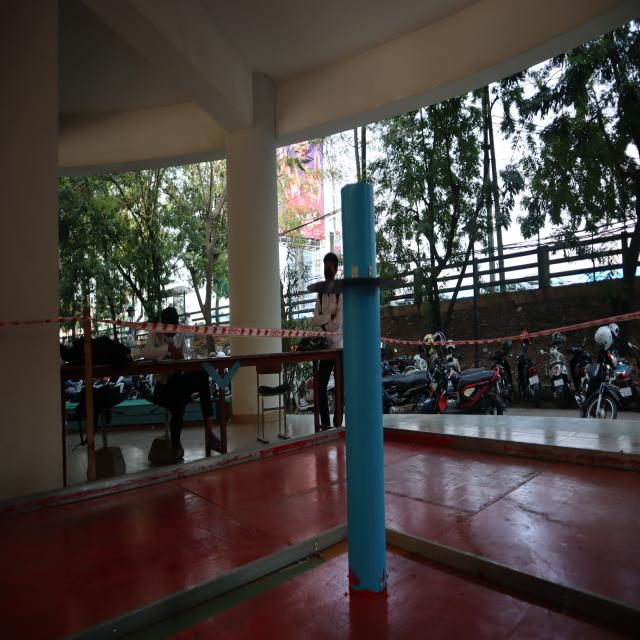pole: (301, 168, 421, 388)
